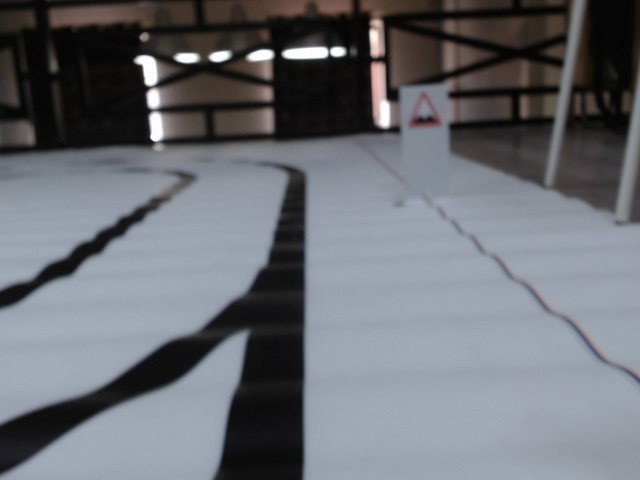Nerov: (408, 92, 442, 127)
